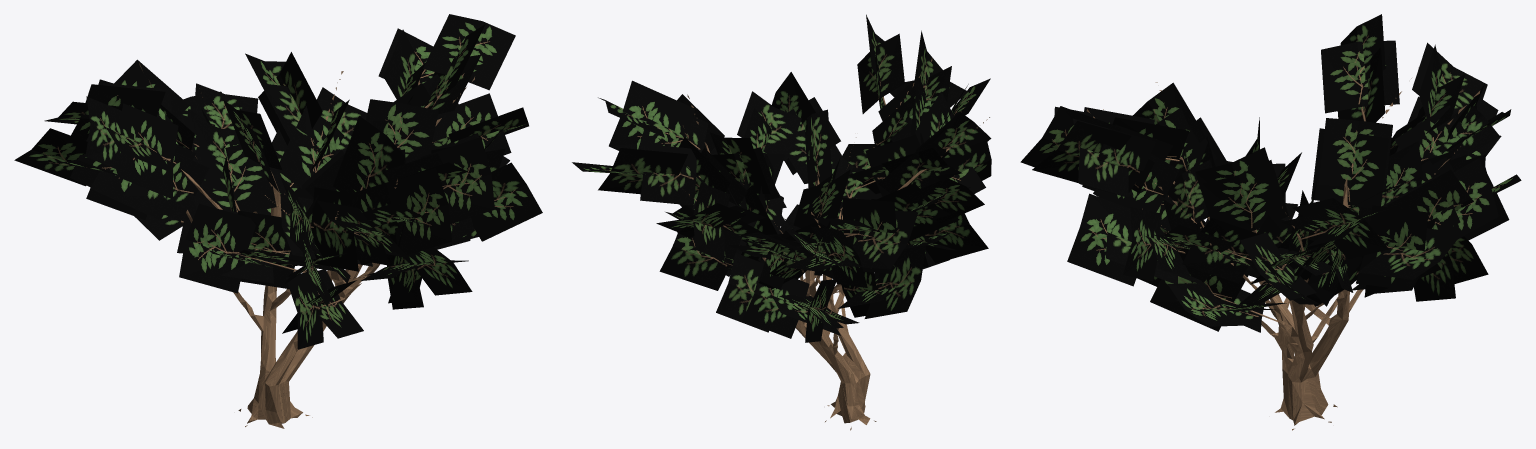
File: Arbousier_V10_4_LOD1.fbx
3 views of the same model, side by side, from view 1: azimuth 30°, elevation 25°; view 2: azimuth 150°, elevation 25°; view 3: azimuth 270°, elevation 25° (orthographic). The views are drawn at different scales.
Parts seen in each view (by area): view 1: Arbousier_V10_4_LOD1; view 2: Arbousier_V10_4_LOD1; view 3: Arbousier_V10_4_LOD1.
Boxes of the visible parts, bbox=[...] form: Arbousier_V10_4_LOD1: bbox=[14, 14, 542, 428]; Arbousier_V10_4_LOD1: bbox=[572, 14, 991, 430]; Arbousier_V10_4_LOD1: bbox=[1020, 14, 1521, 430].
Size of the model in its own units: 276 by 210 by 278.
